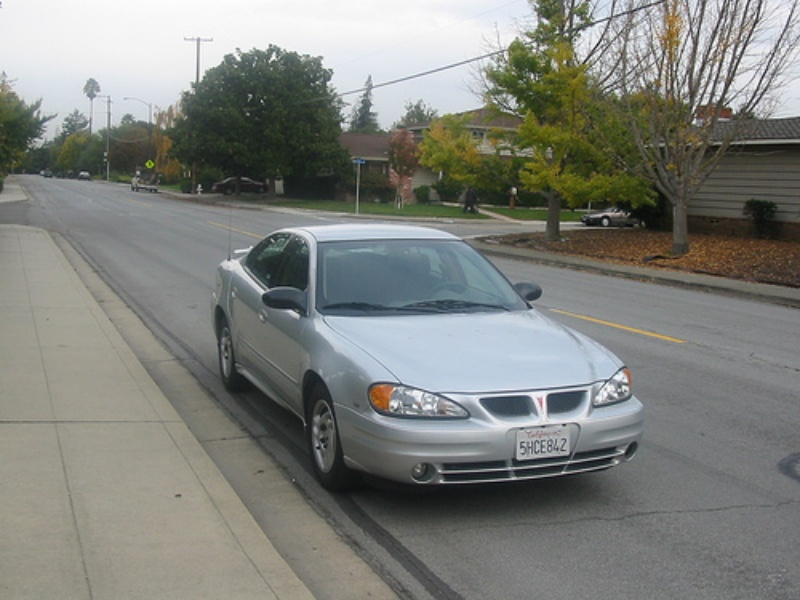car: (208, 222, 642, 491), (581, 205, 637, 228), (212, 176, 267, 194), (132, 171, 161, 193)
